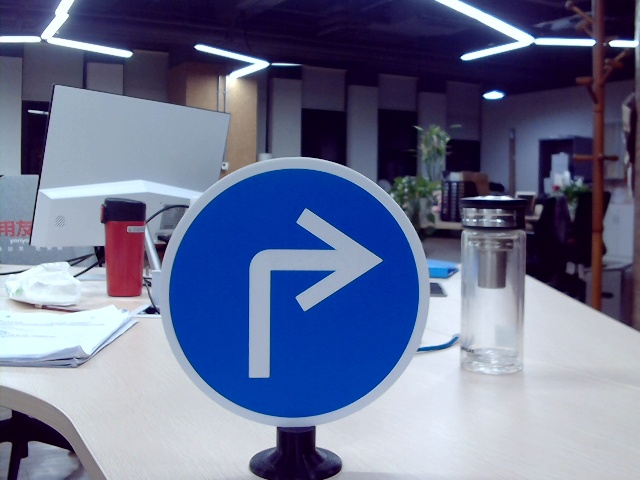turn_right: (239, 205, 381, 378)
